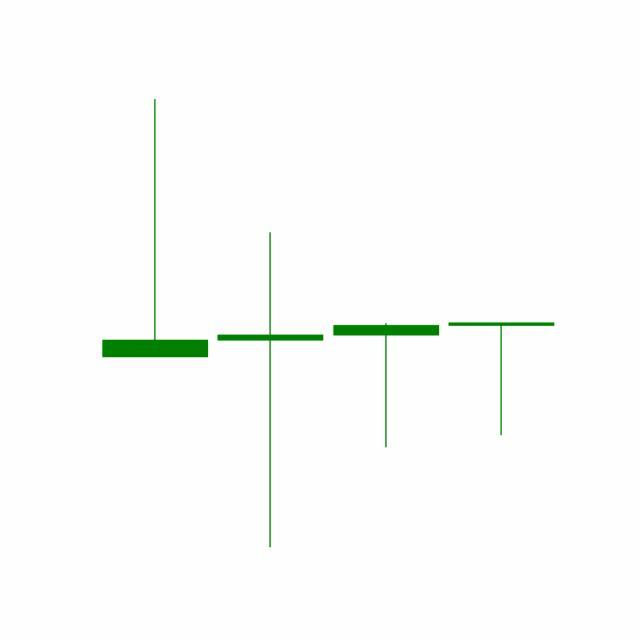Hanging Man: (444, 322, 560, 438)
